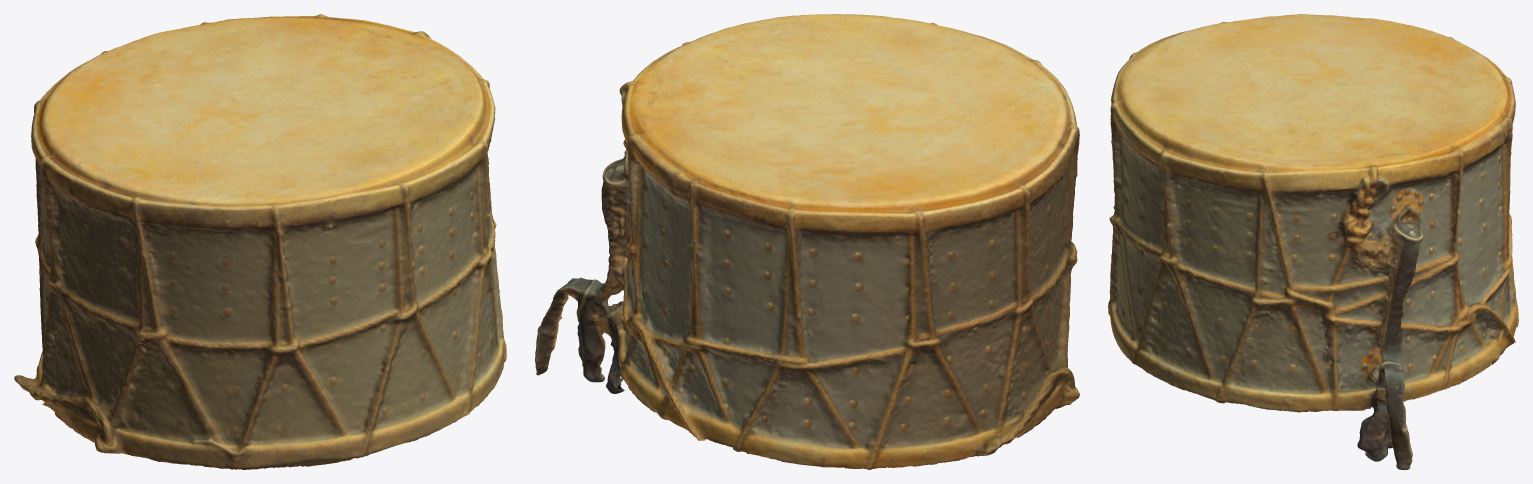
File: drum.glb
The picture shows the model from 3 angles, left to right: view 1: azimuth 30°, elevation 25°; view 2: azimuth 150°, elevation 25°; view 3: azimuth 270°, elevation 25°; orthographic projection. The views are drawn at different scales.
Visible parts, largest first — view 1: Object_3, Object_2, Object_4, Object_5; view 2: Object_2, Object_4, Object_3, Object_5; view 3: Object_2, Object_3, Object_4, Object_5.
Part boxes in pixels (<box>): Object_3: <box>34,53,506,469</box>; Object_2: <box>31,14,482,456</box>; Object_4: <box>14,155,506,461</box>; Object_5: <box>14,175,506,469</box>; Object_2: <box>604,14,1078,469</box>; Object_4: <box>535,139,1079,466</box>; Object_3: <box>620,14,1079,404</box>; Object_5: <box>536,189,1079,468</box>; Object_2: <box>1114,14,1518,329</box>; Object_3: <box>1108,22,1511,401</box>; Object_4: <box>1110,124,1518,469</box>; Object_5: <box>1109,152,1518,469</box>.
Bounding box in the file's own units: 3.74 × 2.39 × 3.17.
1 material, 1 textured.
